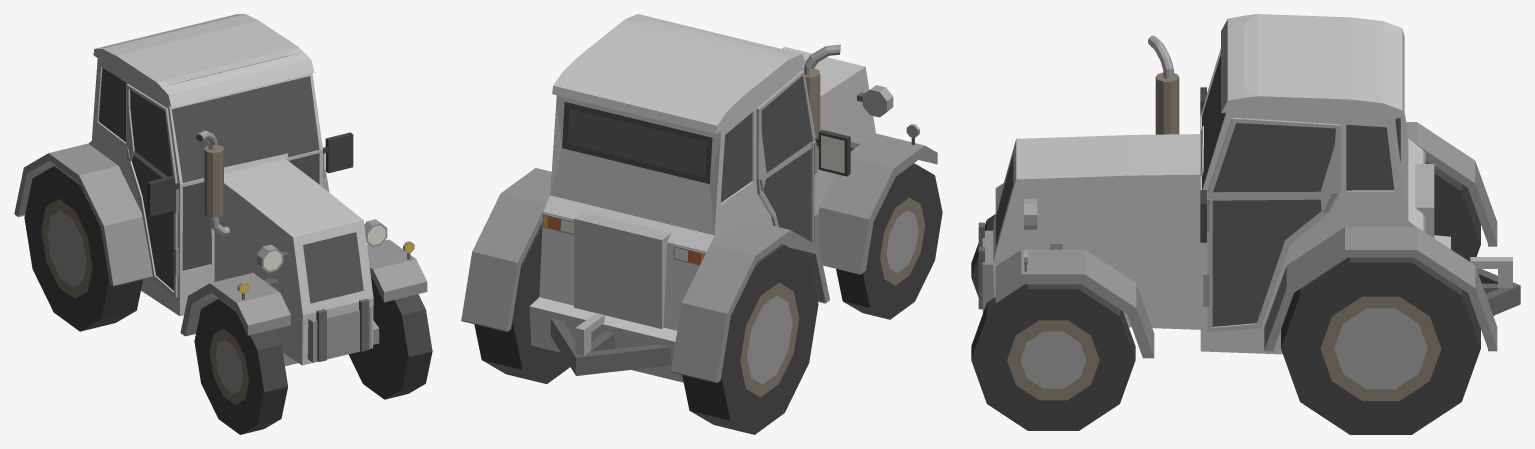
Rendered from kar1.fbx.
3 views of the same model, side by side, from view 1: azimuth 30°, elevation 25°; view 2: azimuth 150°, elevation 25°; view 3: azimuth 270°, elevation 25° (orthographic). The views are drawn at different scales.
Parts seen in each view (by area): view 1: Boole_3, Cylinder_5, Cylinder_2, Cylinder; view 2: Boole_3, Cylinder_5, Cylinder_2, Cylinder_1; view 3: Boole_3, Cylinder_1, Cylinder, Cylinder_5.
Boxes of the visible parts, <box> form: Boole_3: <box>14,14,427,366</box>; Cylinder_5: <box>24,165,143,331</box>; Cylinder_2: <box>194,298,287,434</box>; Cylinder: <box>348,277,432,399</box>; Boole_3: <box>461,14,937,383</box>; Cylinder_5: <box>682,244,818,434</box>; Cylinder_2: <box>836,163,942,319</box>; Cylinder_1: <box>474,221,569,384</box>; Boole_3: <box>978,14,1520,358</box>; Cylinder_1: <box>1281,257,1480,434</box>; Cylinder: <box>971,284,1135,430</box>; Cylinder_5: <box>1425,160,1480,261</box>.
Size of the model in its own units: 213 by 255 by 387.
